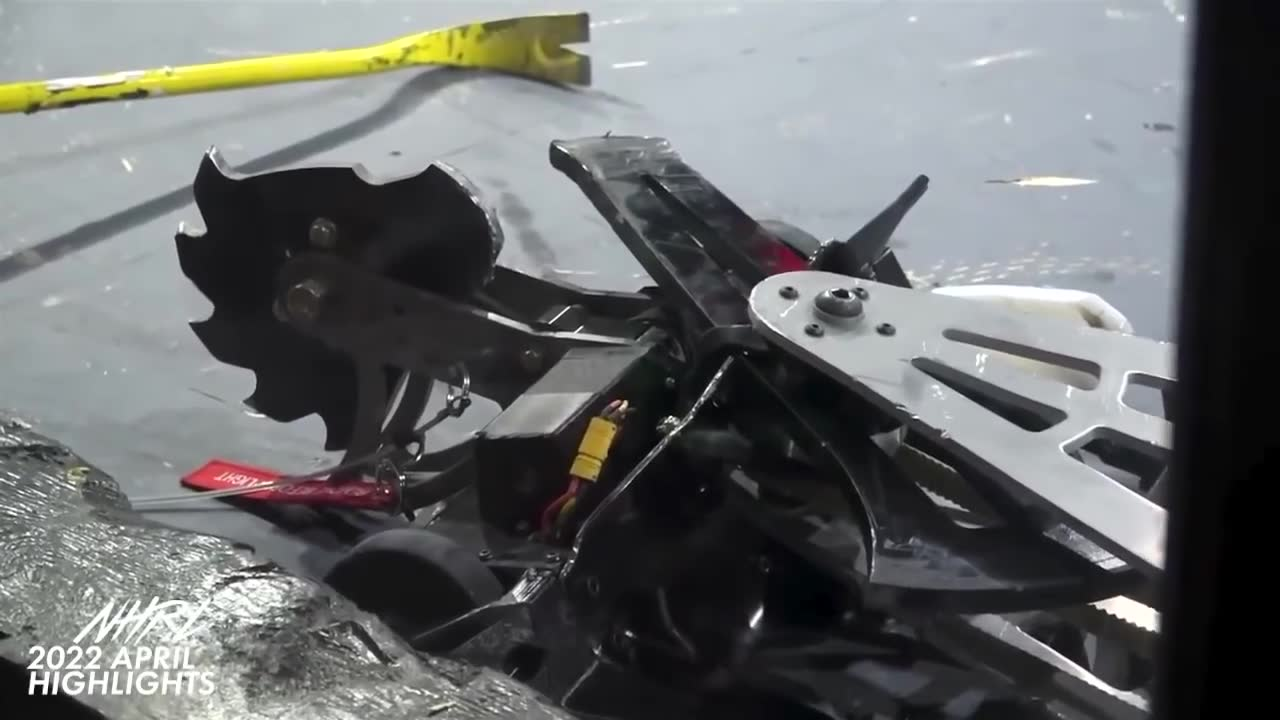combatbot: (170, 148, 708, 623), (758, 277, 1158, 707)
